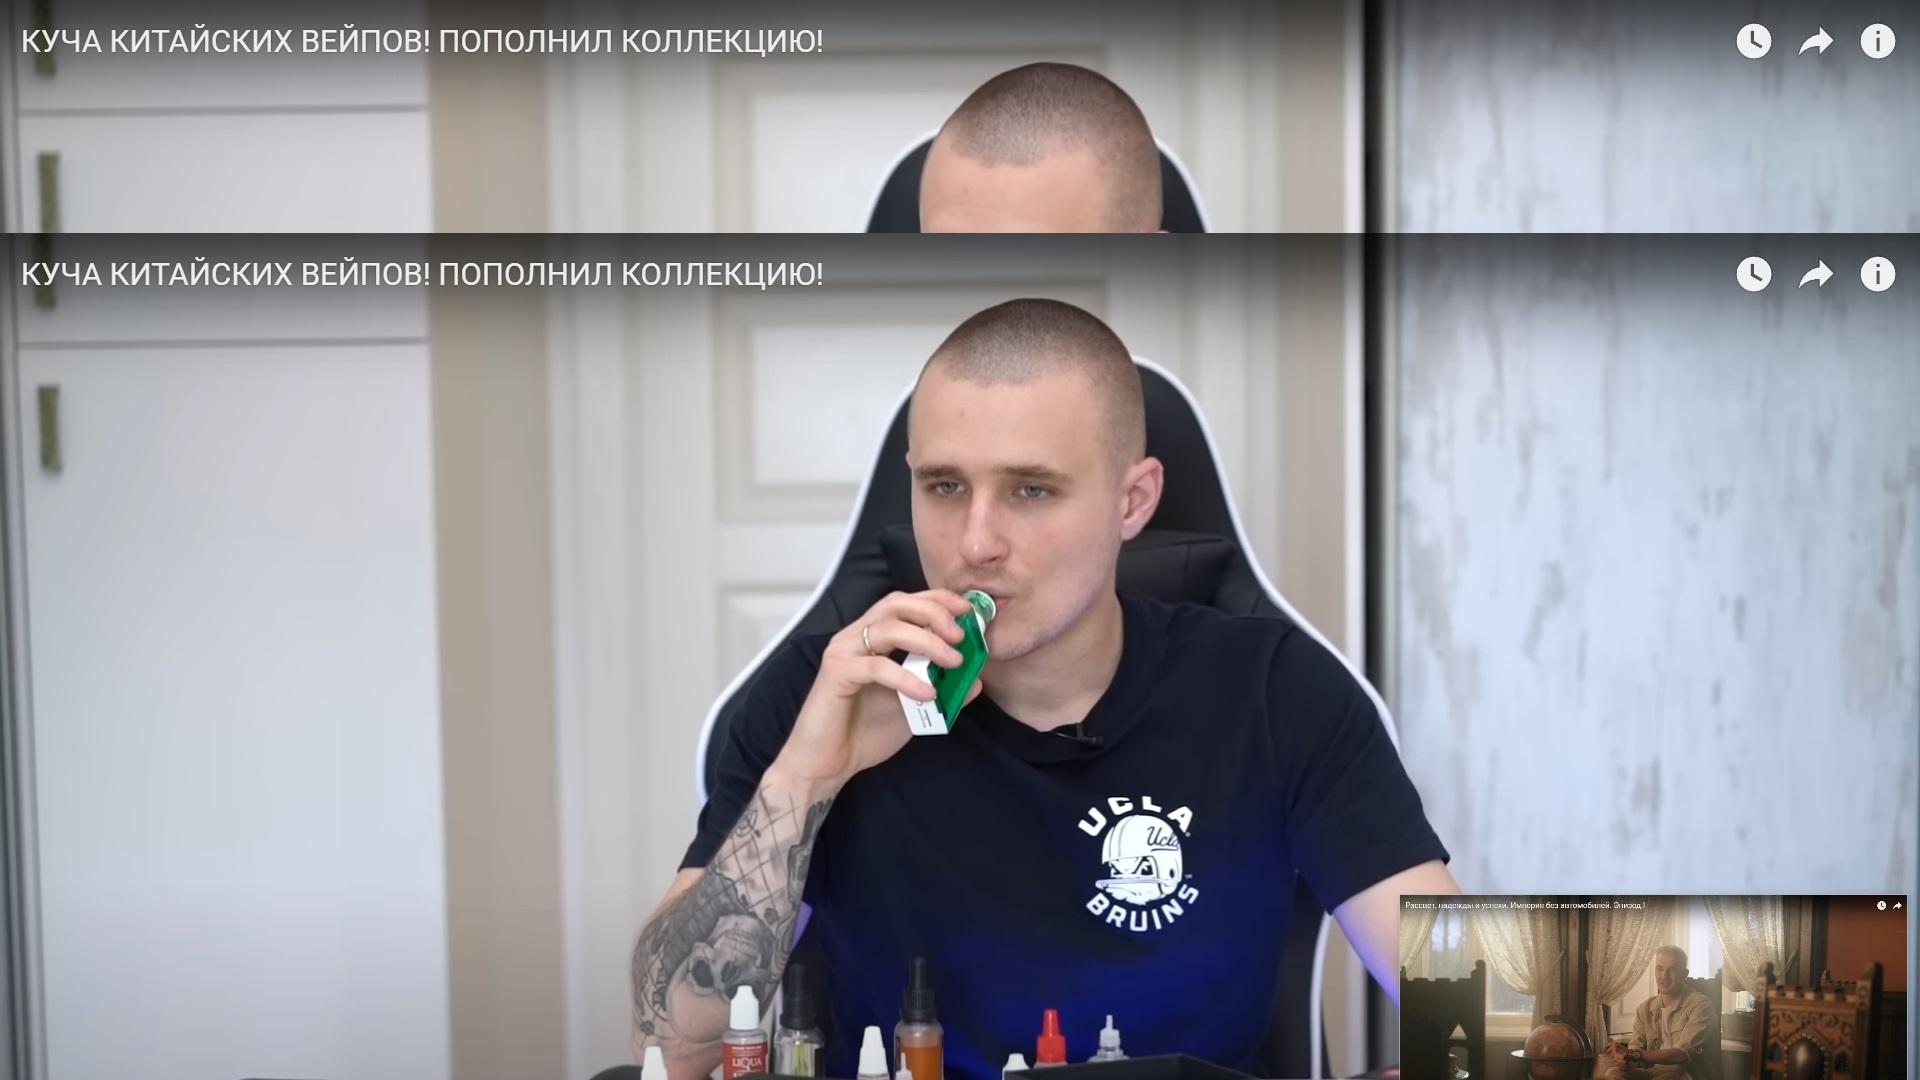Vape: (897, 589, 998, 736)
